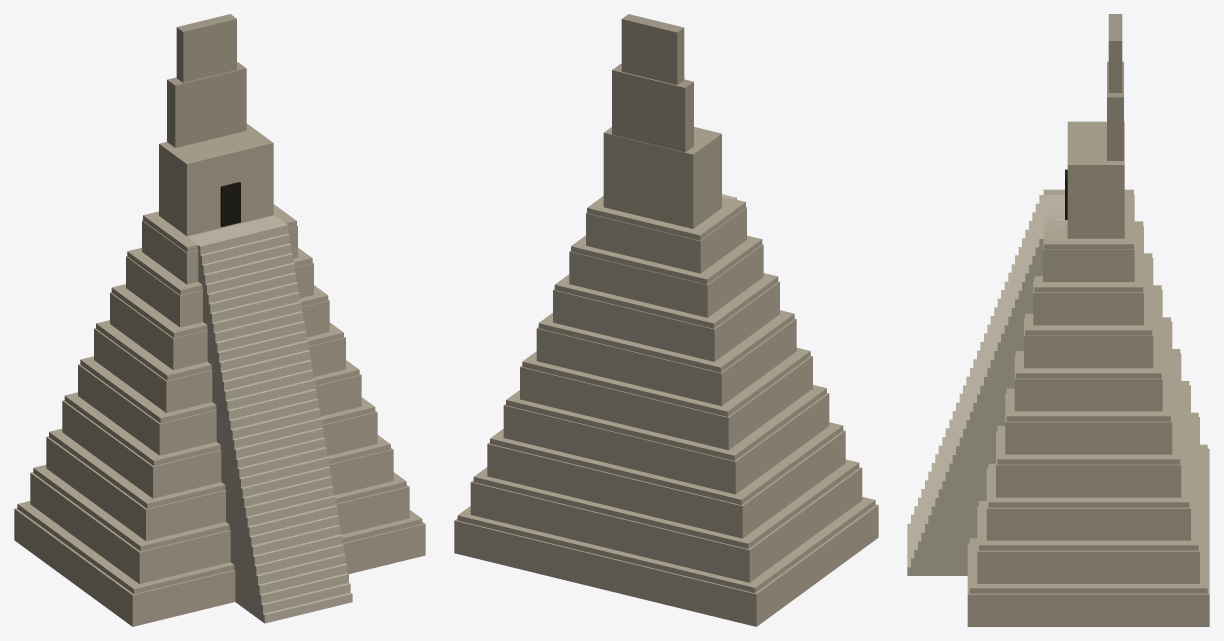
The model's file is meso-tikal-t3-ruin.glb.
3 renders of one model, left to right at view 1: azimuth 30°, elevation 25°; view 2: azimuth 150°, elevation 25°; view 3: azimuth 270°, elevation 25°, orthographic. The views are drawn at different scales.
Visible parts, largest first — view 1: meso-body, meso-stair, meso-shrine, meso-comb, meso-door; view 2: meso-body, meso-shrine, meso-comb; view 3: meso-body, meso-stair, meso-shrine, meso-comb.
Boxes of the visible parts, x1,y1,x2,y2 form: meso-body: (14,204,425,626); meso-stair: (187,215,352,623); meso-shrine: (159,123,273,235); meso-comb: (167,14,246,147); meso-door: (220,182,240,226); meso-body: (454,196,878,626); meso-shrine: (603,127,721,228); meso-comb: (612,14,693,152); meso-body: (967,189,1209,626); meso-stair: (907,195,1065,575); meso-shrine: (1067,121,1124,238); meso-comb: (1107,14,1123,160).
Size of the model in its own units: 32.71 by 55 by 28.61.
